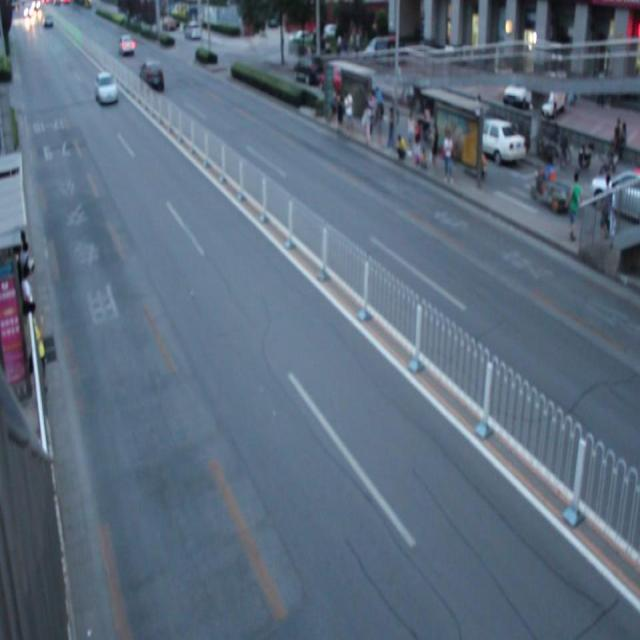car: (138, 60, 165, 94), (94, 71, 119, 106)
